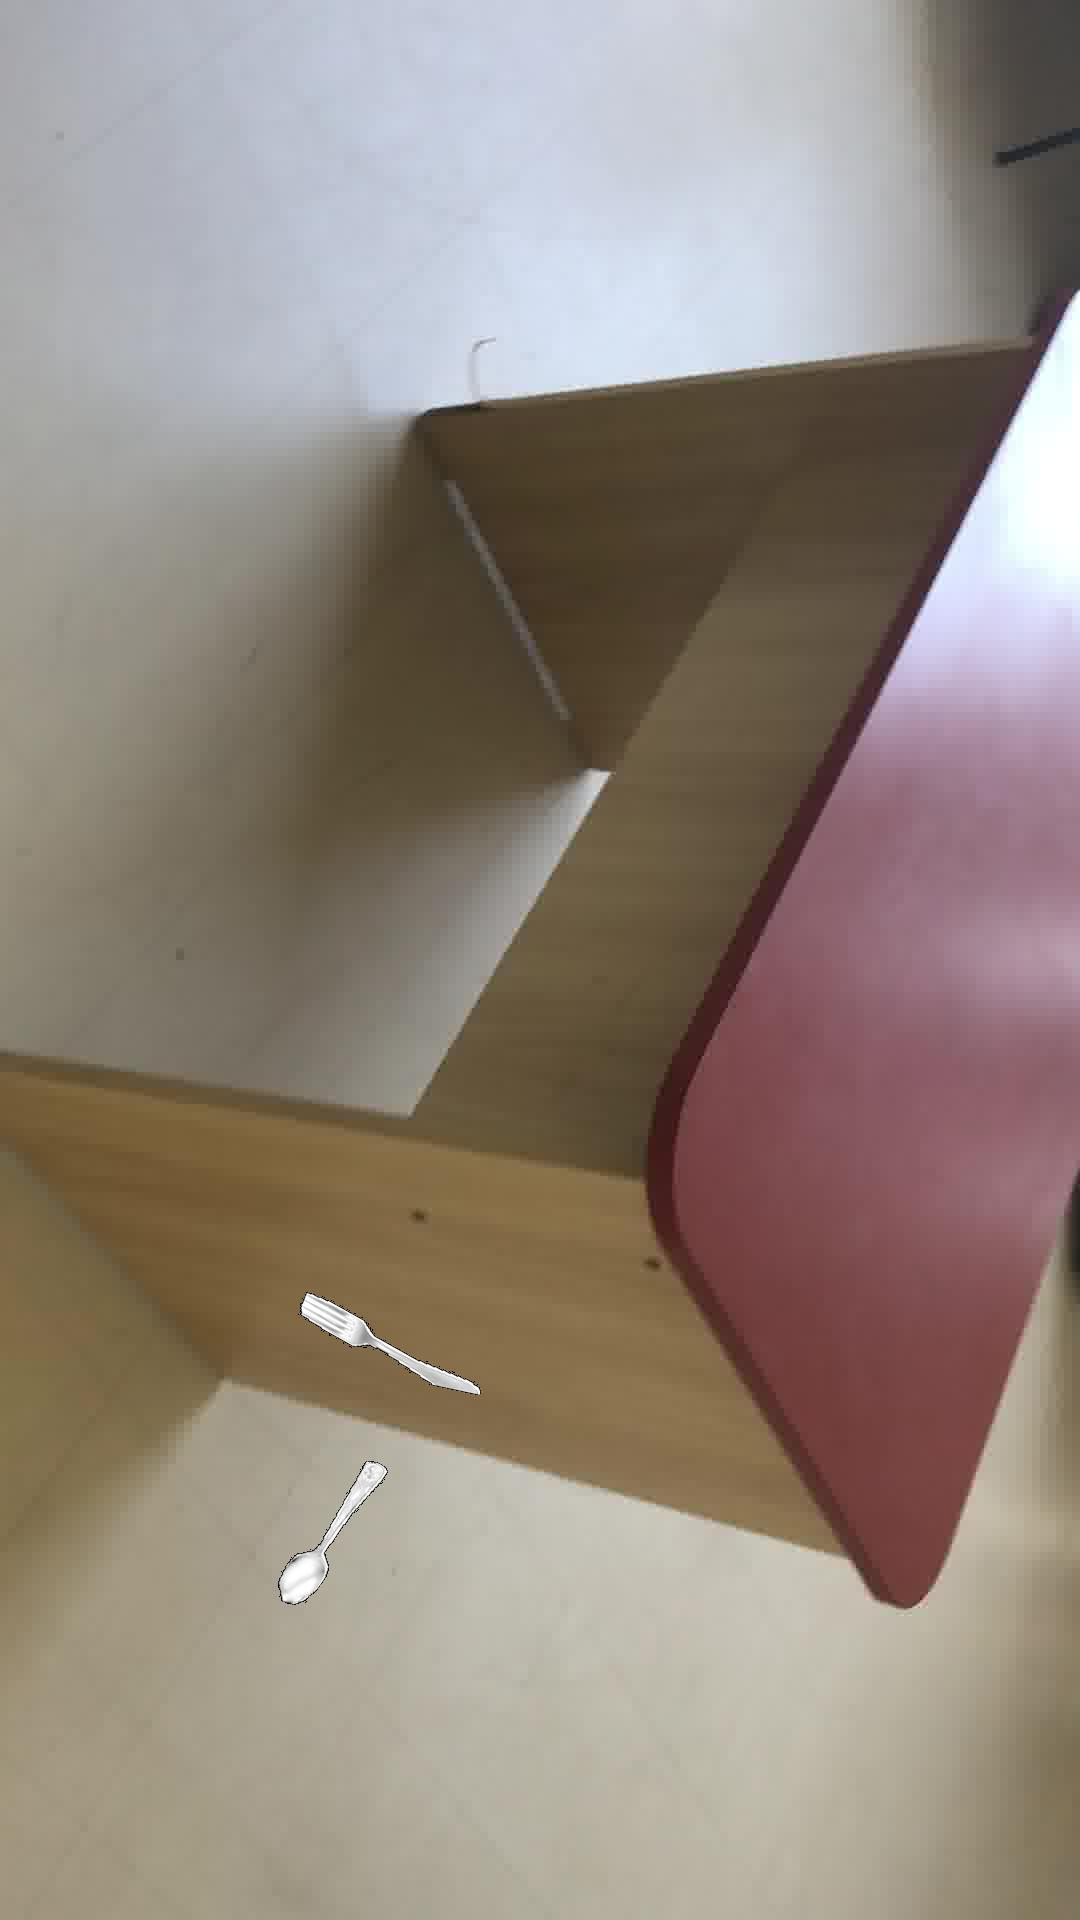fork: (298, 1291, 480, 1394)
spoon: (277, 1460, 386, 1604)
